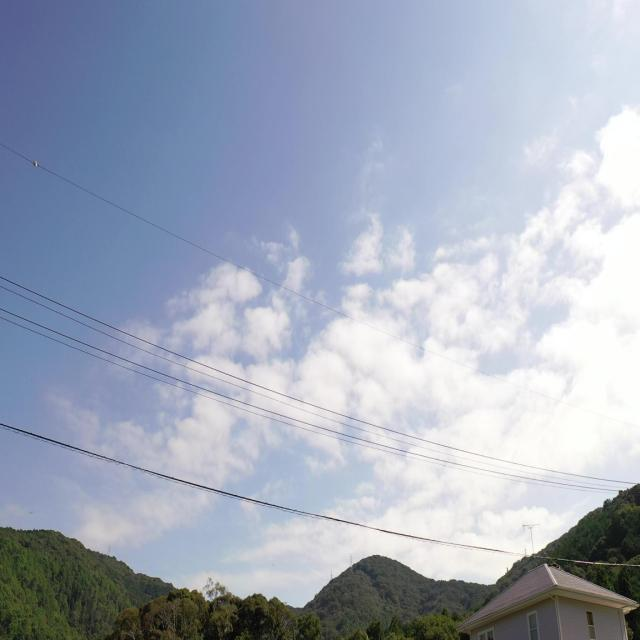Birds: (542, 556, 566, 573)
